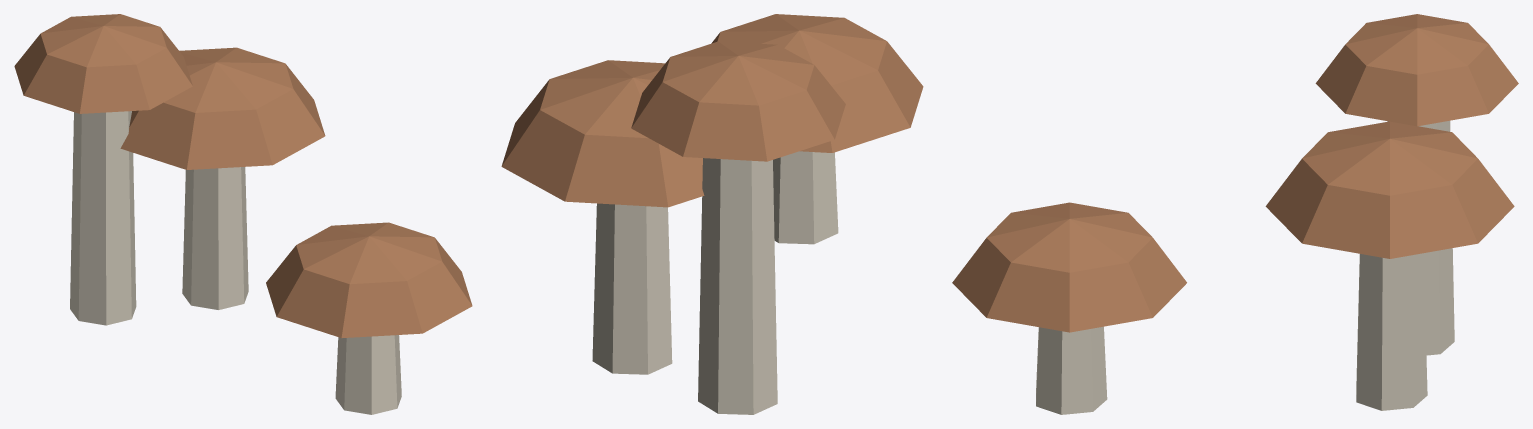
File: mushroom_plain.glb
3 views of the same model, side by side, from view 1: azimuth 30°, elevation 25°; view 2: azimuth 150°, elevation 25°; view 3: azimuth 270°, elevation 25° (orthographic). The views are drawn at different scales.
Visible parts, largest first — view 1: mushroom_plain_6; view 2: mushroom_plain_6; view 3: mushroom_plain_6.
Boxes of the visible parts, x1,y1,x2,y2 form: mushroom_plain_6: [14, 14, 472, 414]; mushroom_plain_6: [501, 14, 923, 414]; mushroom_plain_6: [952, 14, 1518, 414].
Bounding box in the file's own units: 0.332 × 0.3229 × 0.5288.
